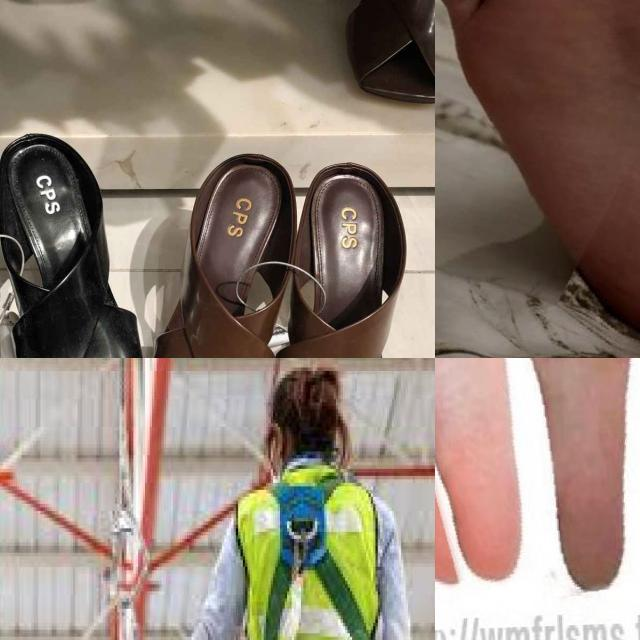Barefoots: (435, 0, 640, 358), (515, 358, 640, 613), (560, 0, 640, 358), (435, 358, 533, 601)
Harness: (243, 471, 406, 640)
Sandals: (140, 105, 430, 358), (0, 101, 166, 358)
